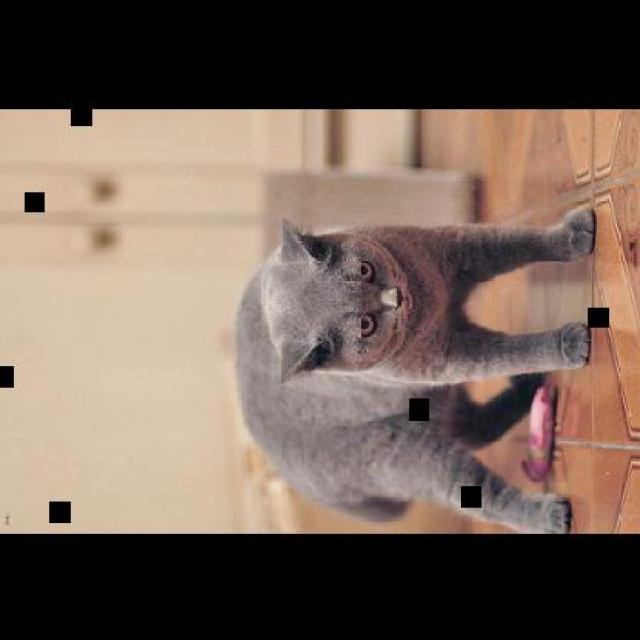unauthorized: (235, 205, 597, 388)
